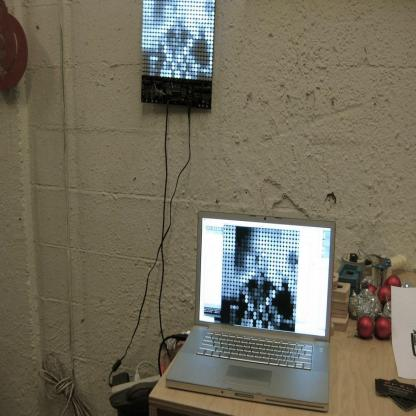board: (160, 207, 331, 416)
